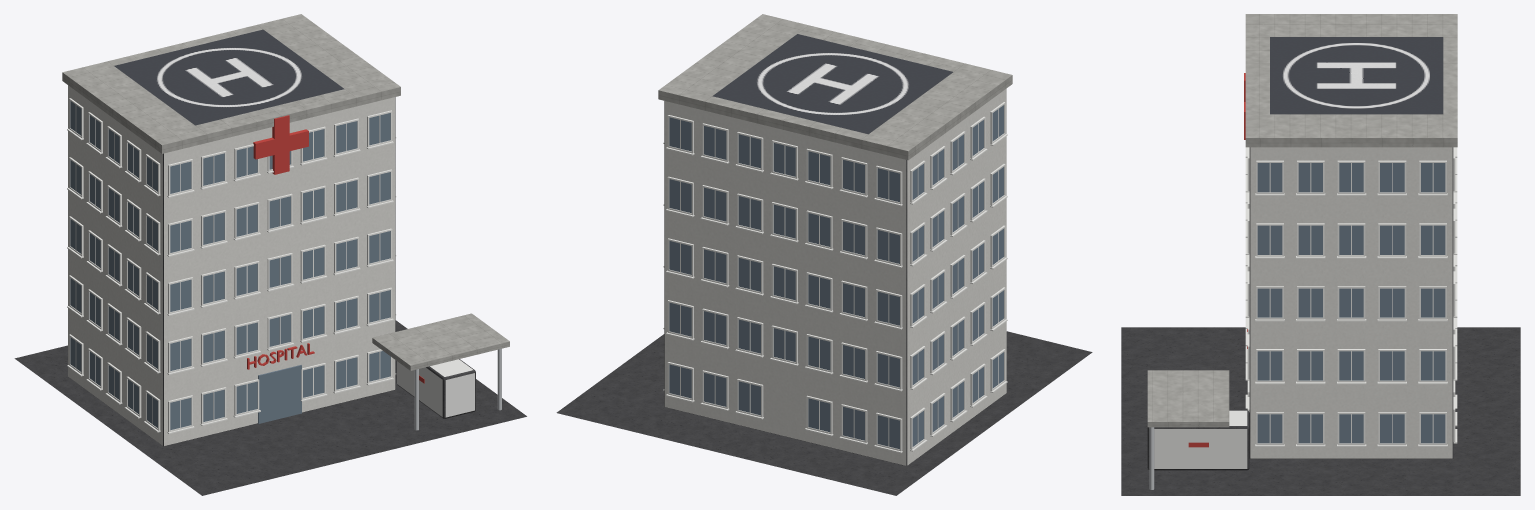
Rendered from hospital.gltf.
3 renders of one model, left to right at view 1: azimuth 30°, elevation 25°; view 2: azimuth 150°, elevation 25°; view 3: azimuth 270°, elevation 25°, orthographic. The views are drawn at different scales.
Parts seen in each view (by area): view 1: hospital; view 2: hospital; view 3: hospital.
Boxes of the visible parts, x1,y1,x2,y2 form: hospital: (14, 14, 526, 495); hospital: (556, 14, 1092, 495); hospital: (1121, 14, 1520, 495).
Size of the model in its own units: 3.92 by 3.5 by 3.92.
9 materials, 4 textured.
